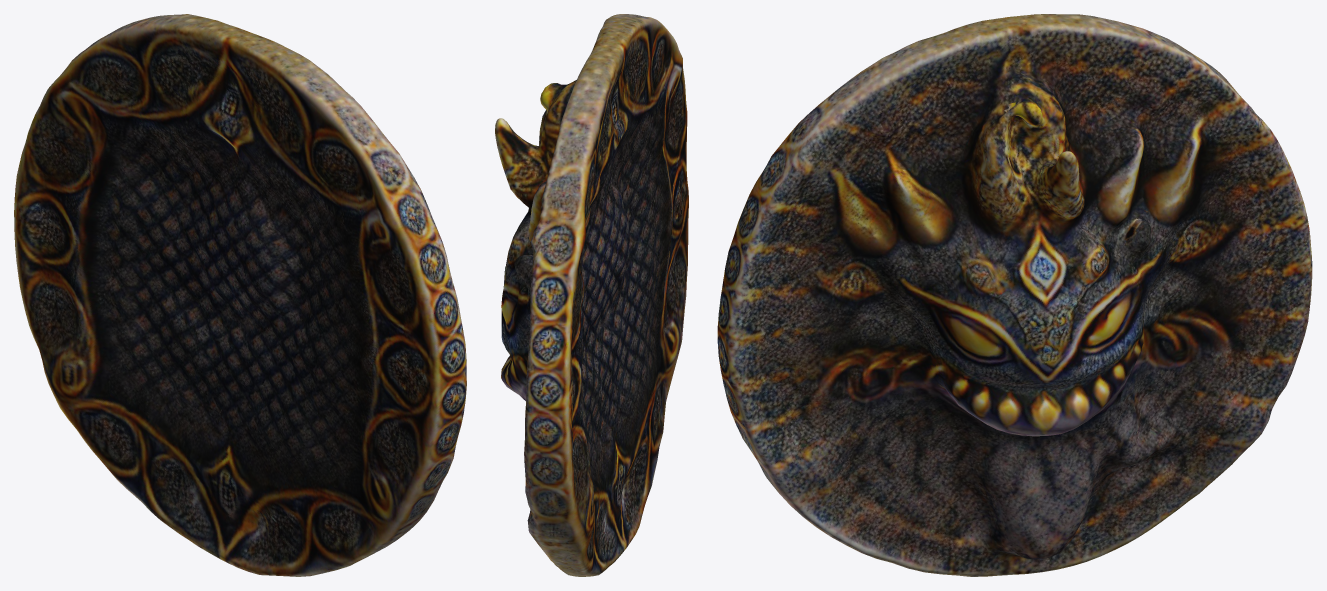
Rendered from 4c2621acf02d_Adorable_Wall_Brick.fbx.
3 views of the same model, side by side, from view 1: azimuth 30°, elevation 25°; view 2: azimuth 150°, elevation 25°; view 3: azimuth 270°, elevation 25° (orthographic). The views are drawn at different scales.
Parts seen in each view (by area): view 1: mesh; view 2: mesh; view 3: mesh.
Boxes of the visible parts, x1,y1,x2,y2 form: mesh: (14, 14, 466, 576); mesh: (495, 14, 688, 576); mesh: (717, 14, 1312, 576).
Size of the model in its own units: 36.72 by 99.95 by 97.76.
